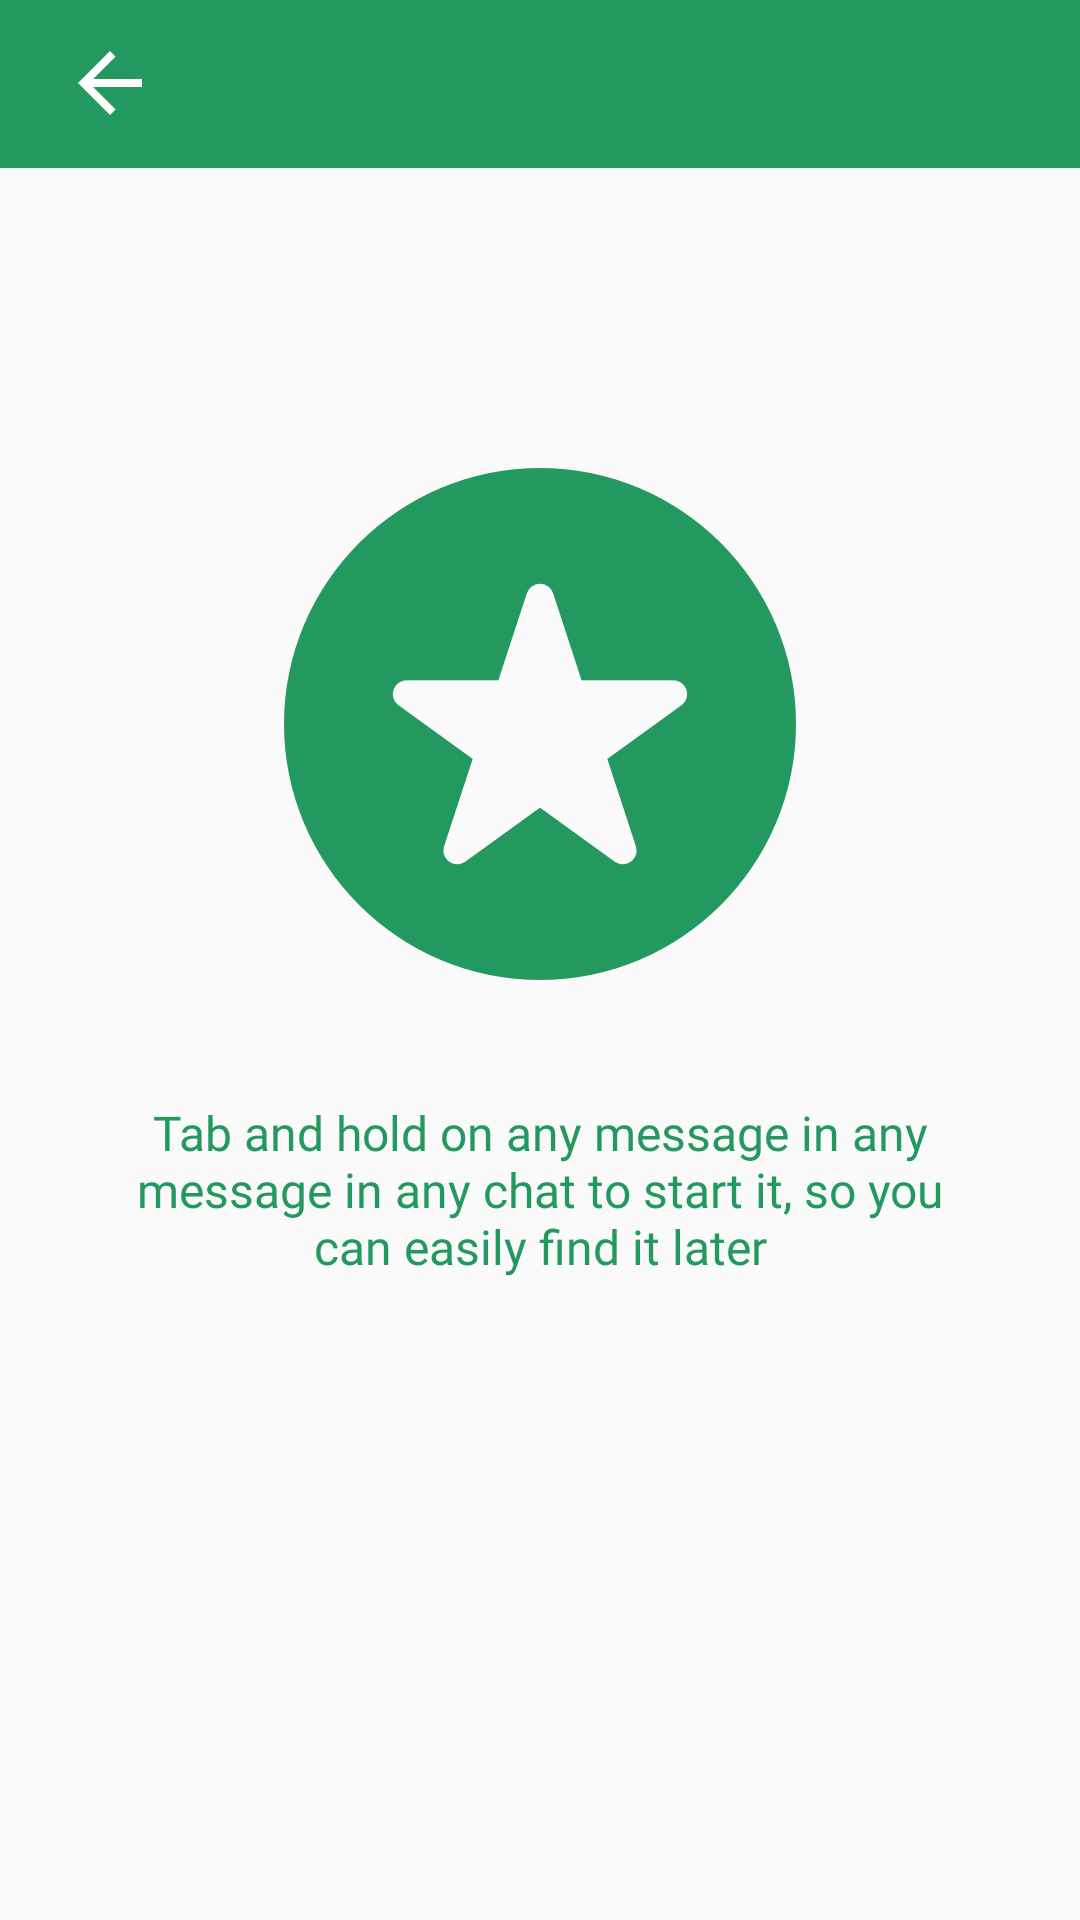

Icons on this 1080 × 1920 Android screen, each with its box as (x1, y1, x2, y2):
back arrow: (78, 51, 142, 115)
